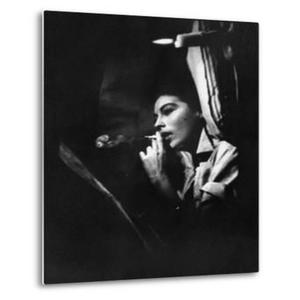cigarette: (141, 134, 162, 140)
